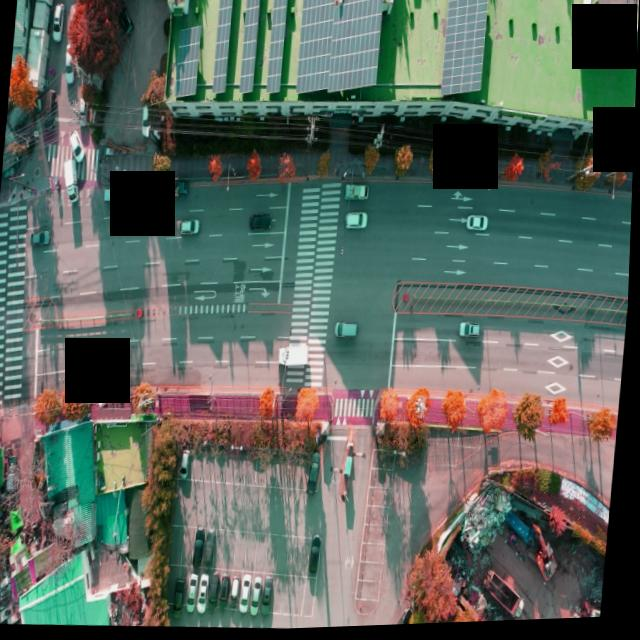car: (70, 131, 87, 165), (102, 186, 129, 206), (63, 45, 76, 86), (117, 5, 134, 36), (311, 456, 324, 496), (177, 578, 189, 618), (45, 89, 57, 128), (312, 538, 324, 576), (194, 531, 206, 569), (140, 102, 152, 139), (201, 576, 213, 613), (344, 215, 368, 233), (335, 324, 359, 342), (51, 4, 62, 42), (209, 530, 220, 567), (254, 578, 265, 614), (189, 576, 200, 612), (233, 577, 244, 613), (264, 578, 275, 614), (243, 575, 254, 611), (213, 575, 224, 610), (459, 326, 481, 343), (252, 217, 274, 234), (466, 217, 487, 234), (179, 221, 199, 237), (31, 230, 51, 246), (77, 100, 87, 128), (223, 578, 232, 606), (184, 451, 193, 479)
medium_truck: (484, 570, 531, 624), (281, 344, 312, 369)
small_truck: (60, 157, 81, 205), (164, 181, 191, 201), (343, 187, 369, 205)
